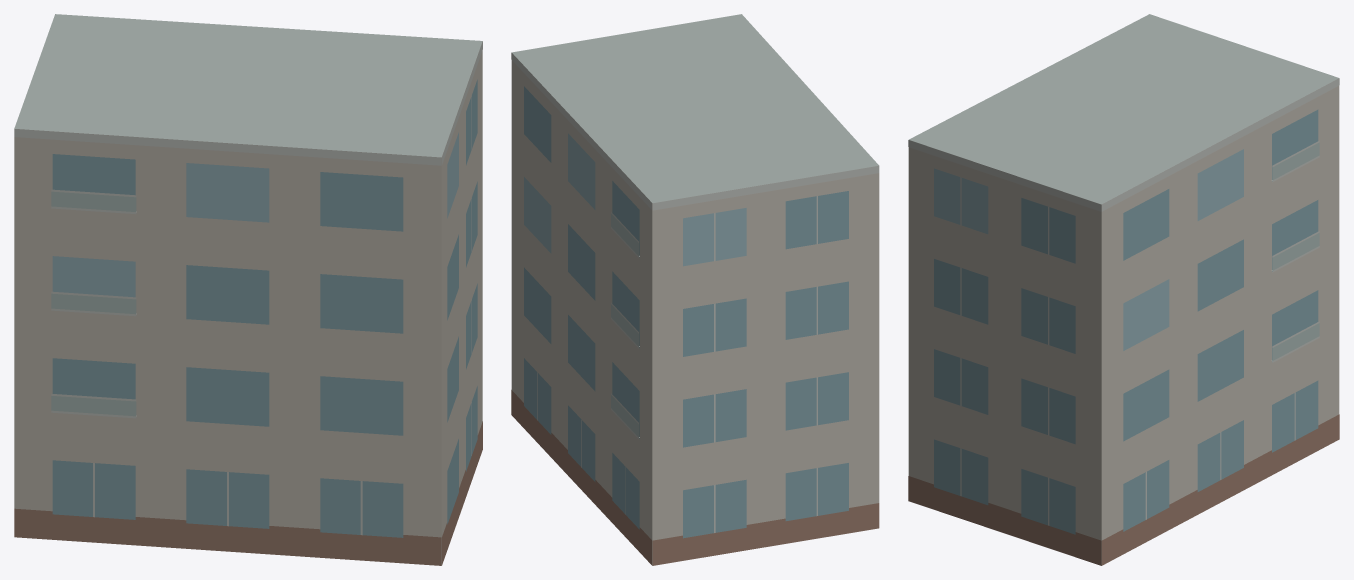
File: survey-upis-32865955.glb
The picture shows the model from 3 angles, left to right: view 1: azimuth 30°, elevation 25°; view 2: azimuth 150°, elevation 25°; view 3: azimuth 270°, elevation 25°; orthographic projection. The views are drawn at different scales.
Parts seen in each view (by area): view 1: survey-upis-32865955.tmp; view 2: survey-upis-32865955.tmp; view 3: survey-upis-32865955.tmp.
Boxes of the visible parts, x1,y1,x2,y2 form: survey-upis-32865955.tmp: (14, 14, 482, 565); survey-upis-32865955.tmp: (511, 14, 879, 565); survey-upis-32865955.tmp: (908, 14, 1339, 565).
Bounding box in the file's own units: 13.58 × 12 × 12.98.
